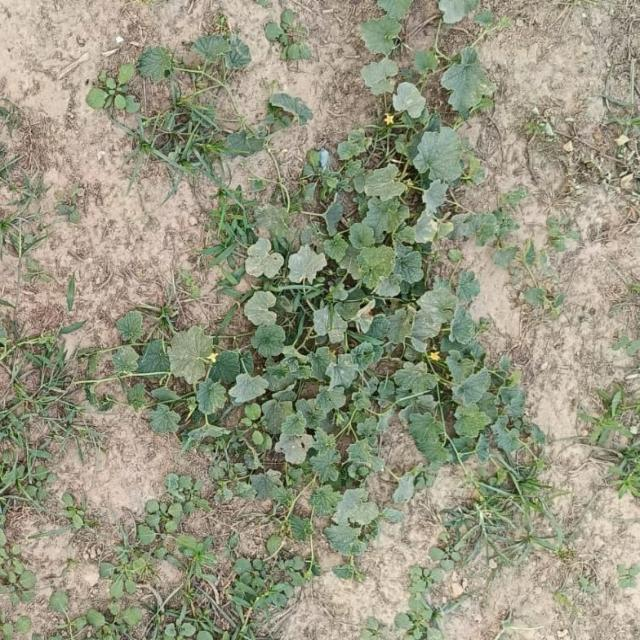plant: (113, 0, 525, 483), (442, 47, 496, 116), (137, 47, 175, 80), (271, 93, 312, 123), (193, 35, 230, 62), (226, 130, 266, 154), (441, 0, 478, 22)
